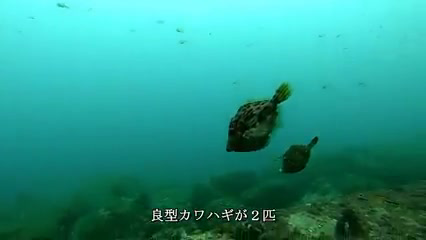kawahagi: (217, 81, 293, 154), (275, 136, 323, 176)
